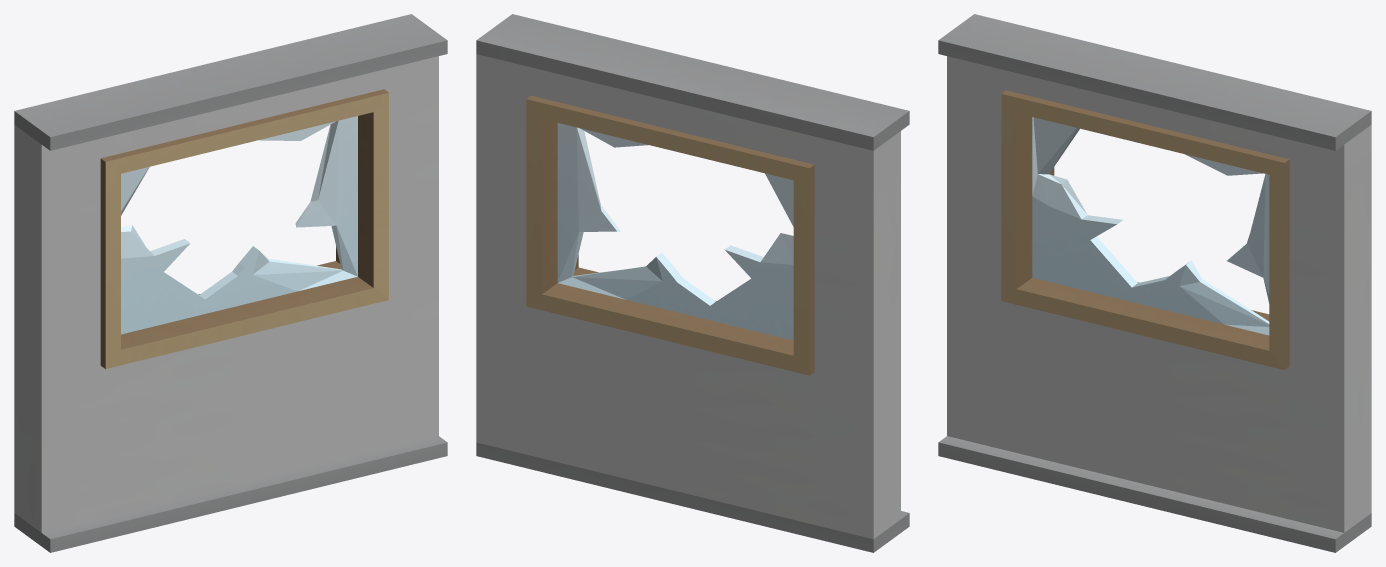
The model's file is wall_1_window_2.dae.
3 renders of one model, left to right at view 1: azimuth 30°, elevation 25°; view 2: azimuth 150°, elevation 25°; view 3: azimuth 330°, elevation 25°, orthographic.
Visible parts, largest first — view 1: wall_1_window_2; view 2: wall_1_window_2; view 3: wall_1_window_2.
Part boxes in pixels (x1,y1,x2,y2): wall_1_window_2: (14, 14, 447, 552); wall_1_window_2: (476, 14, 909, 552); wall_1_window_2: (938, 14, 1371, 552).
Bounding box in the file's own units: 2 × 0.3568 × 2.
